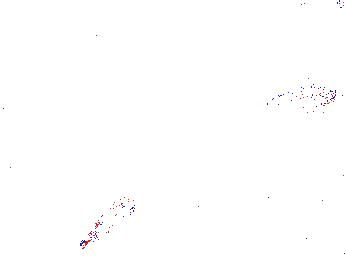glassfish: (246, 87, 339, 122), (84, 193, 146, 243)
redtail glassfish: (294, 1, 346, 19)
